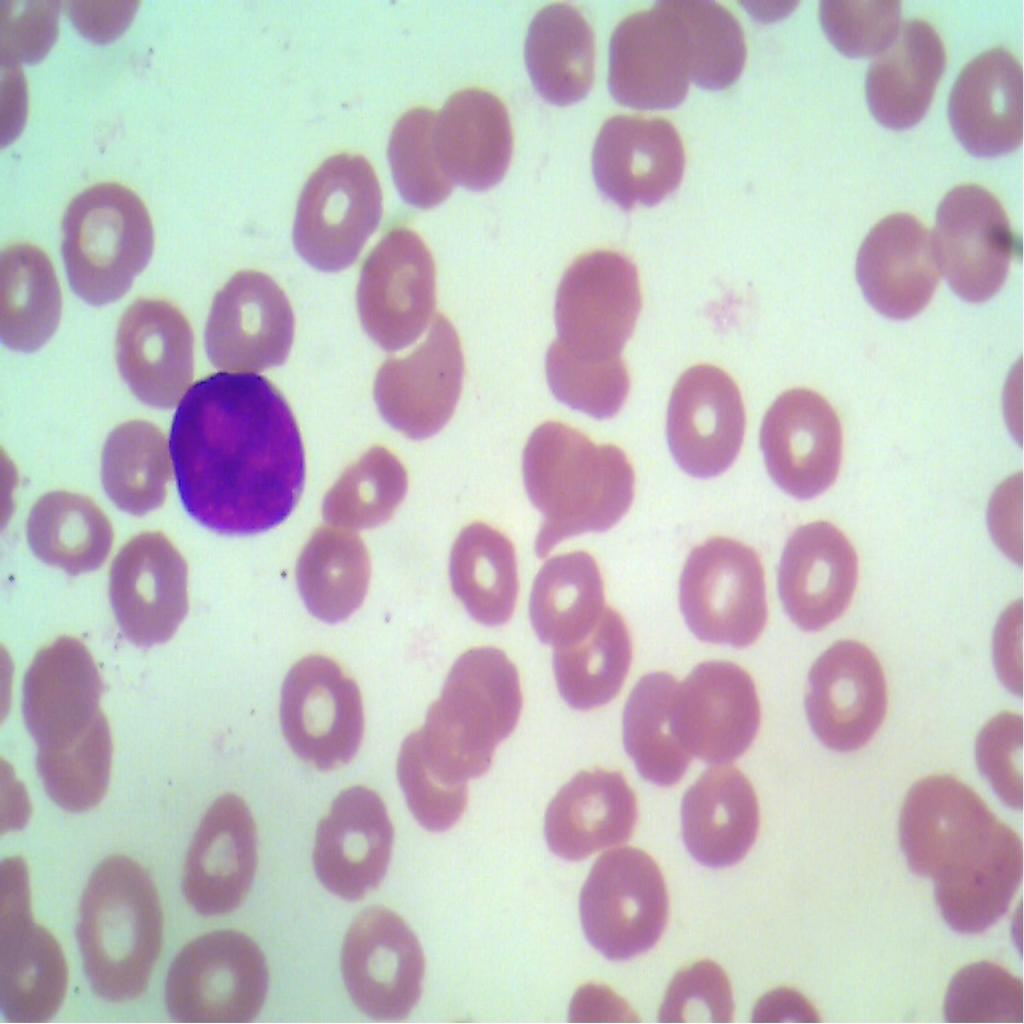Eritrosit: (46, 168, 160, 310), (71, 850, 162, 1004), (766, 501, 864, 639), (298, 775, 399, 908), (588, 104, 698, 221), (98, 274, 194, 405), (376, 314, 468, 447), (578, 838, 671, 968), (281, 644, 375, 772), (203, 265, 304, 384), (843, 198, 938, 324), (332, 912, 438, 1023), (290, 150, 386, 272), (182, 794, 270, 922), (762, 371, 846, 505), (861, 17, 951, 142), (429, 82, 521, 204), (804, 632, 890, 762), (933, 815, 1023, 939), (674, 532, 770, 646), (530, 758, 638, 859), (896, 768, 986, 889), (934, 184, 1023, 305), (22, 474, 118, 586), (446, 512, 524, 649), (33, 705, 124, 821), (166, 925, 273, 1023), (671, 762, 766, 872), (663, 362, 749, 482), (544, 602, 636, 714), (611, 657, 691, 785), (106, 538, 198, 648), (668, 655, 766, 758), (941, 42, 1023, 164), (352, 225, 434, 345), (558, 244, 644, 358), (86, 408, 174, 518), (646, 0, 748, 94), (18, 632, 101, 746), (603, 0, 691, 106), (0, 238, 73, 364), (520, 408, 602, 520), (543, 319, 636, 417), (290, 525, 380, 625), (518, 0, 601, 106), (319, 428, 409, 524), (390, 725, 469, 834), (383, 102, 459, 212), (548, 445, 634, 542), (528, 542, 606, 639), (413, 691, 496, 782), (0, 924, 76, 1023), (440, 648, 526, 732)
Limfoblast: (169, 367, 310, 535)
